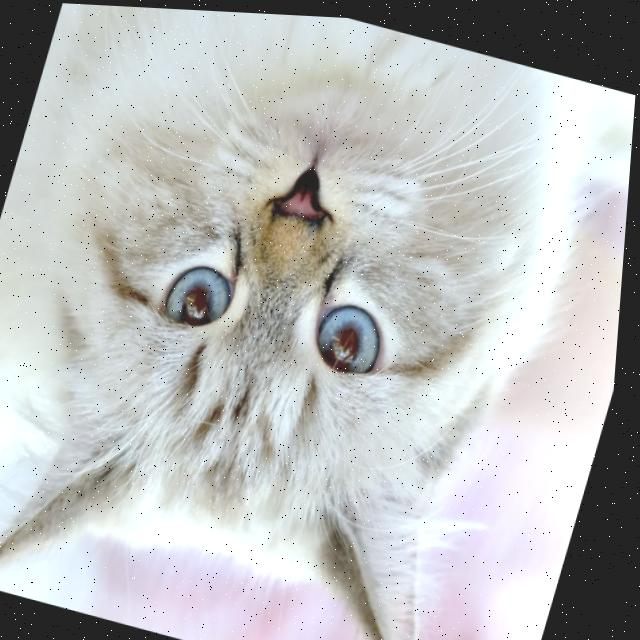Neva Masquerade: (0, 0, 630, 640)
